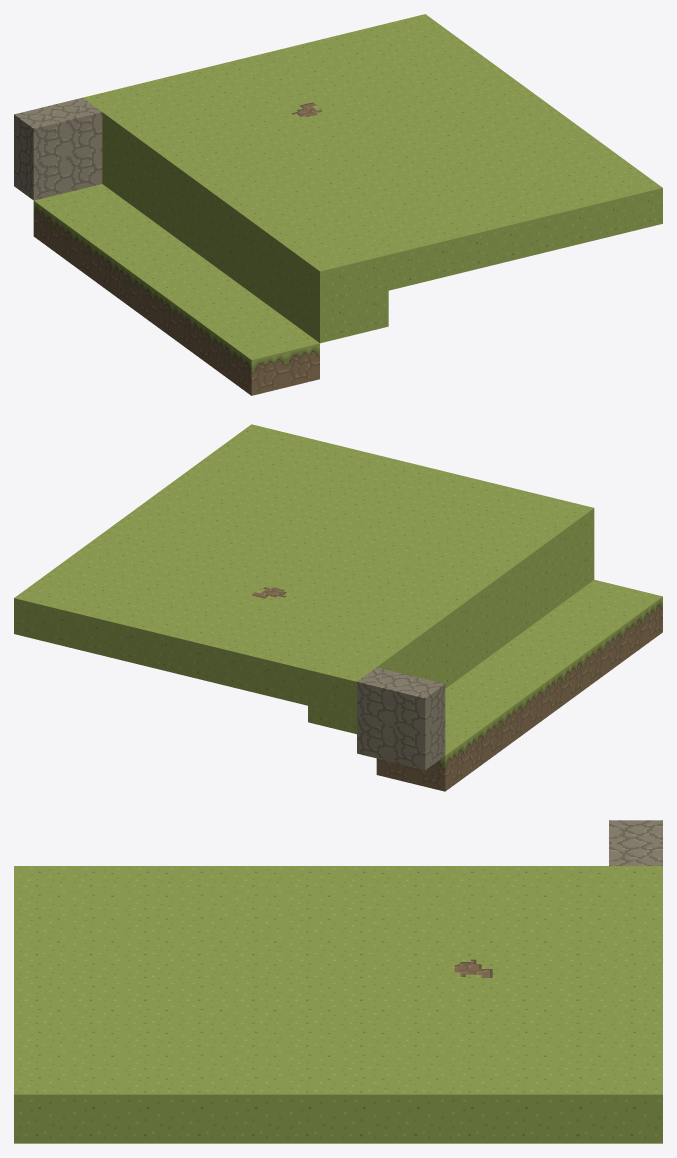
Rendered from map1.20.vox.obj.
3 views of the same model, one above another, from view 1: azimuth 30°, elevation 25°; view 2: azimuth 150°, elevation 25°; view 3: azimuth 270°, elevation 25° (orthographic). The views are drawn at different scales.
Size of the model in its own units: 24 by 6 by 24.
1 material, 1 textured.
